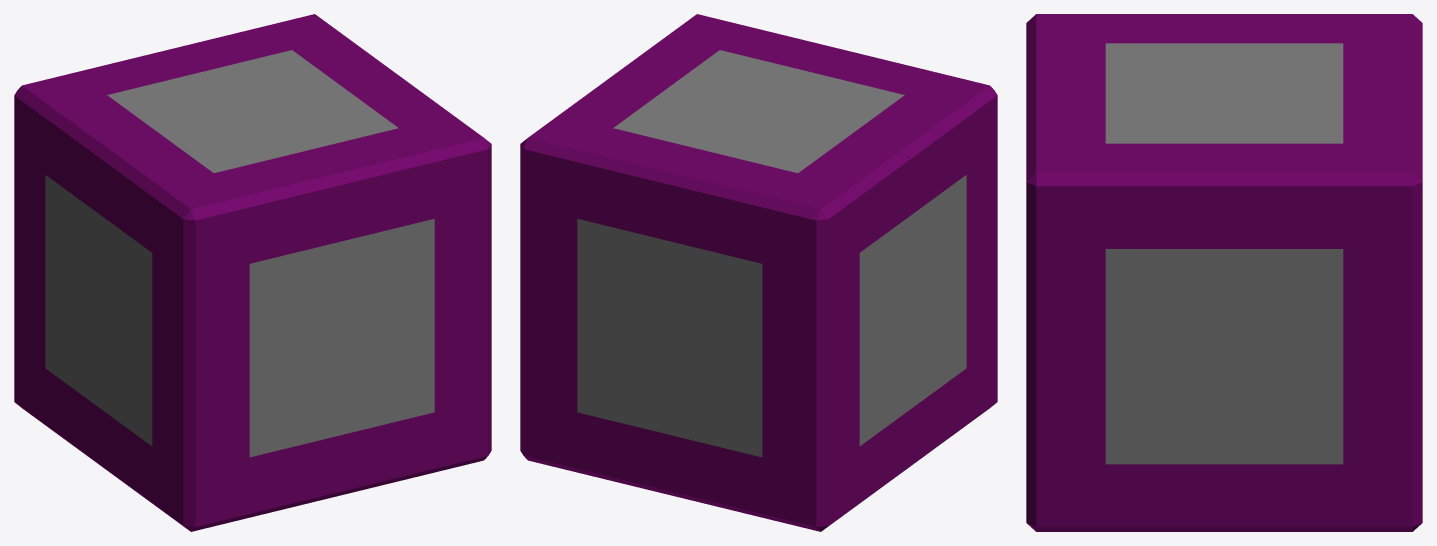
Rendered from stone-09-full.glb.
3 renders of one model, left to right at view 1: azimuth 30°, elevation 25°; view 2: azimuth 150°, elevation 25°; view 3: azimuth 270°, elevation 25°, orthographic. The views are drawn at different scales.
Parts seen in each view (by area): view 1: m.base, y-Cube, x-Cube, z-Cube; view 2: m.base, y-Cube, x-Cube, z-Cube; view 3: m.base, x-Cube, z-Cube.
Boxes of the visible parts, x1=… form: m.base: x1=14, y1=14, x2=491, y2=531; y-Cube: x1=249, y1=219, x2=434, y2=457; x-Cube: x1=45, y1=175, x2=152, y2=445; z-Cube: x1=107, y1=50, x2=398, y2=172; m.base: x1=520, y1=14, x2=997, y2=531; y-Cube: x1=577, y1=219, x2=762, y2=457; x-Cube: x1=859, y1=175, x2=966, y2=445; z-Cube: x1=613, y1=50, x2=904, y2=172; m.base: x1=1026, y1=14, x2=1422, y2=531; x-Cube: x1=1105, y1=249, x2=1343, y2=464; z-Cube: x1=1105, y1=43, x2=1343, y2=143.
Size of the model in its own units: 1 by 1 by 1.
